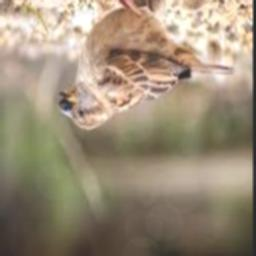Sparrow: (59, 0, 235, 131)
